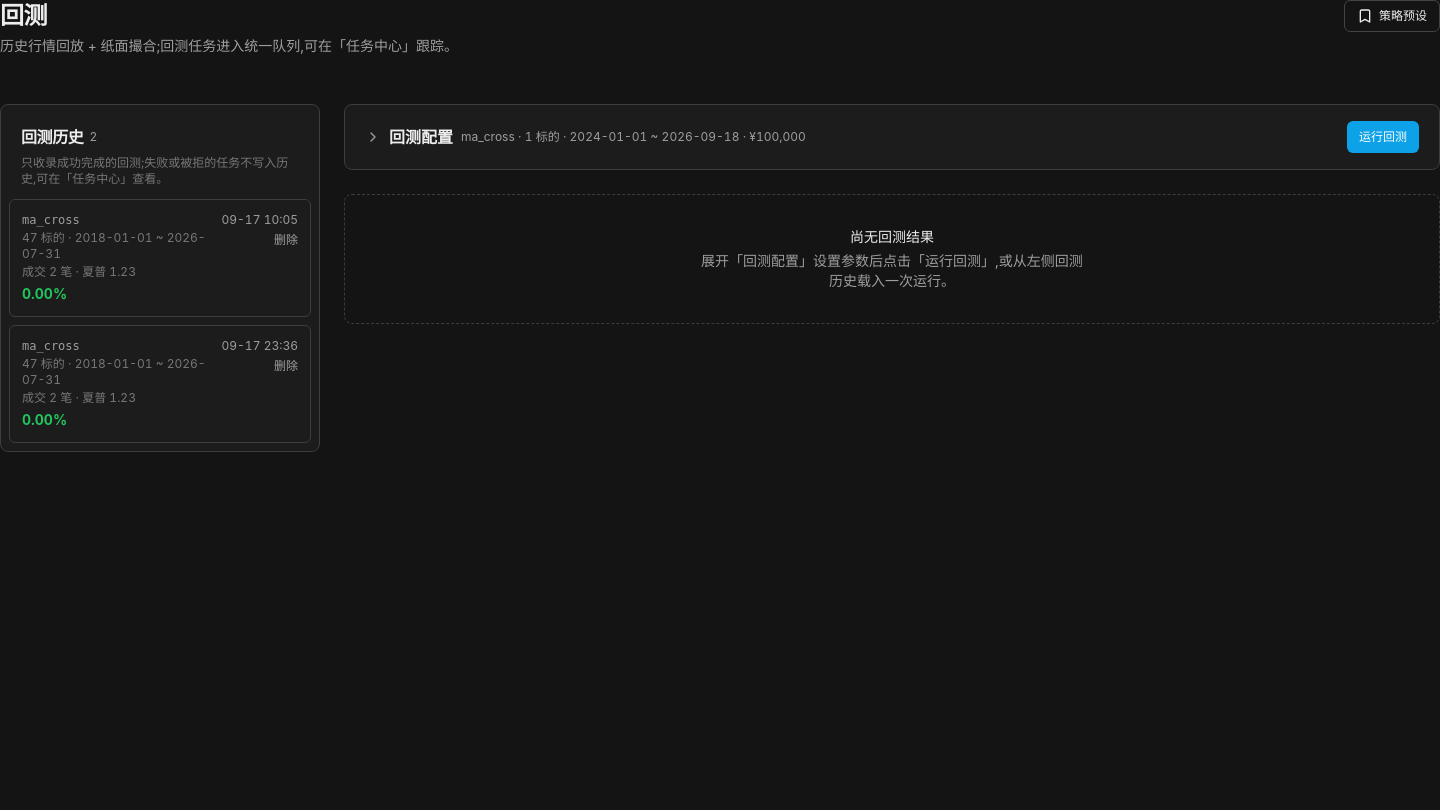
Test: 回测历史删除防护 › 点击删除只打开二次确认,取消不发请求
Click the 1st button "删除": {"x": 286, "y": 240} 274,232 -> 298,248
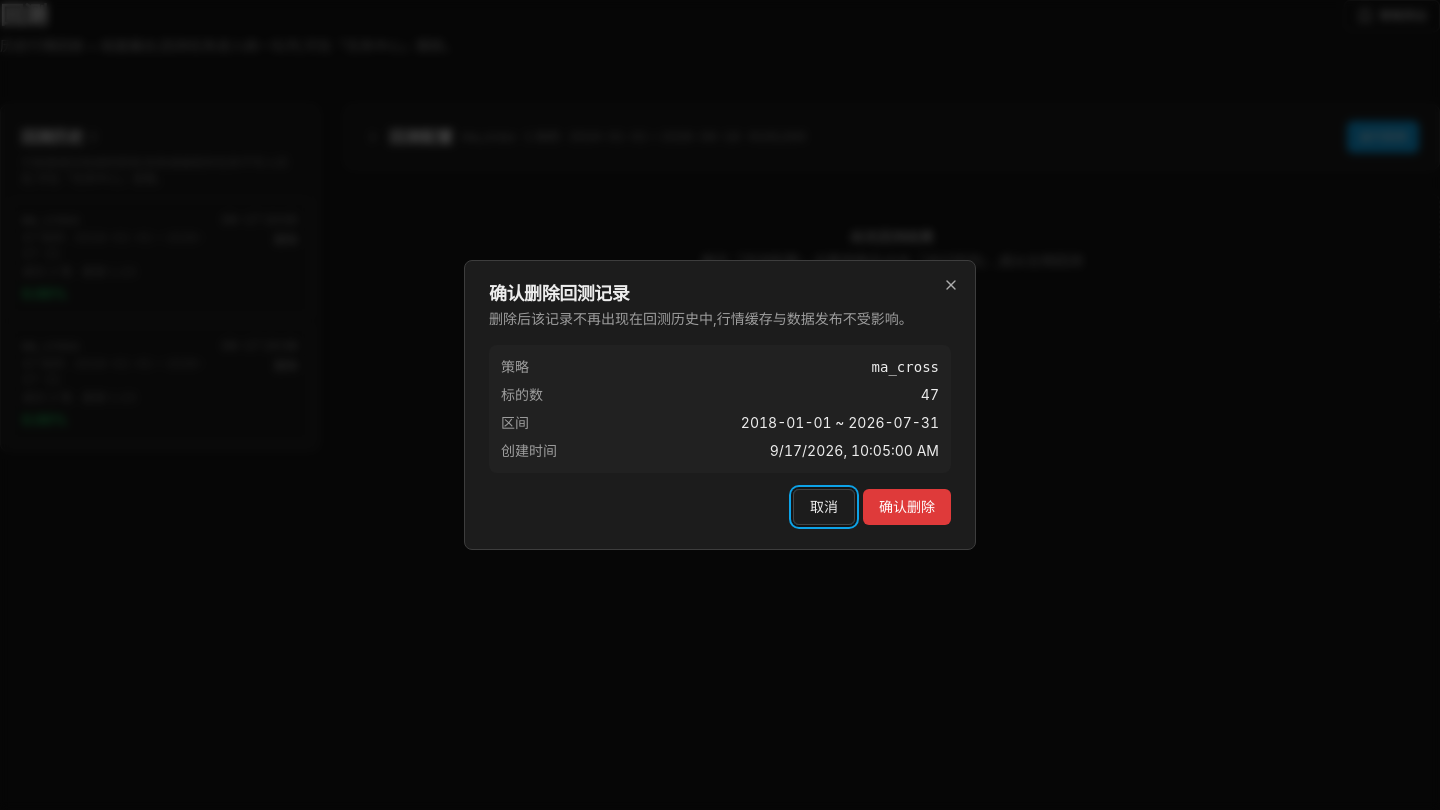
Expected: the heading "确认删除回测记录" is shown, 489,283 -> 629,304
Click the button "取消": {"x": 824, "y": 507} 793,489 -> 855,525
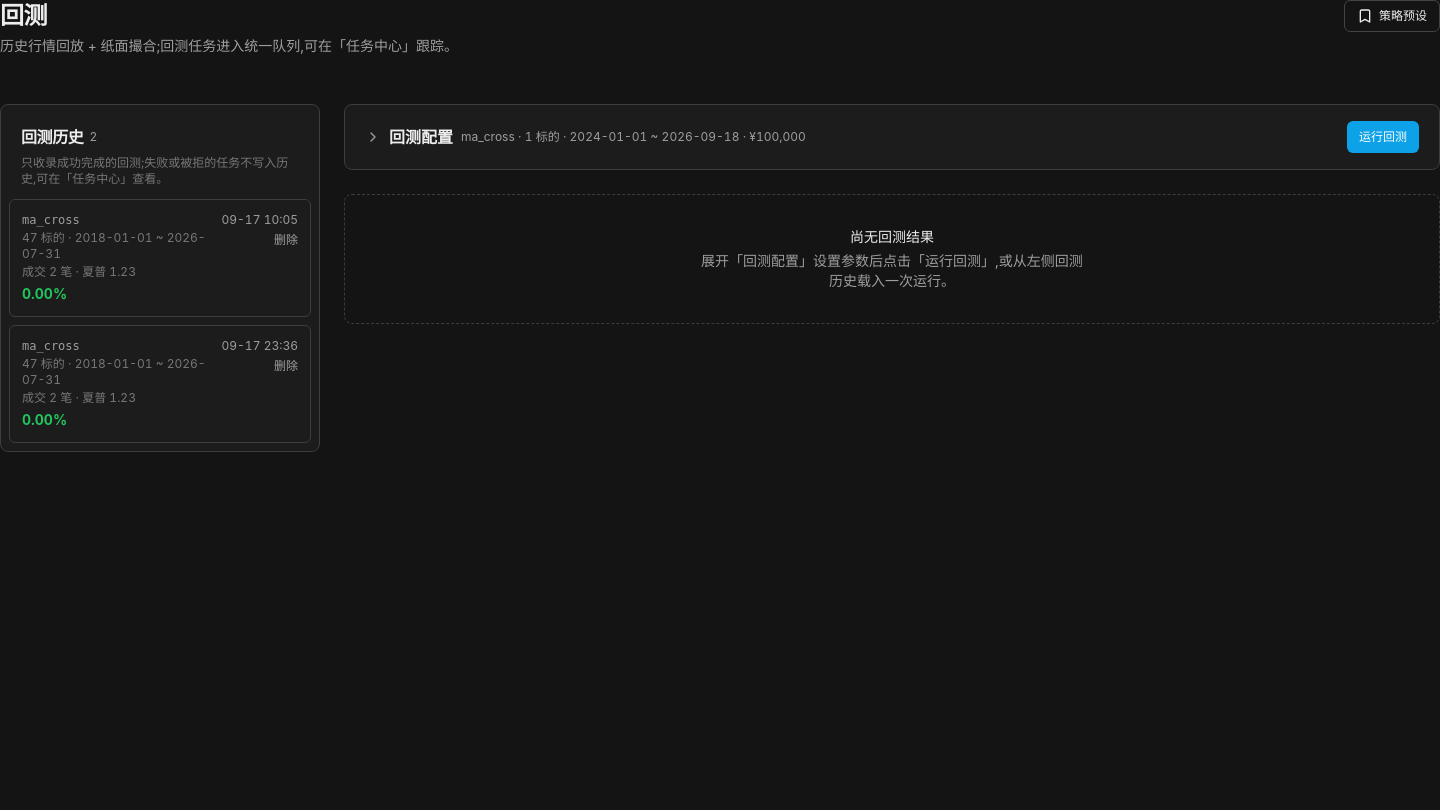
Expected: the dialog is gone
